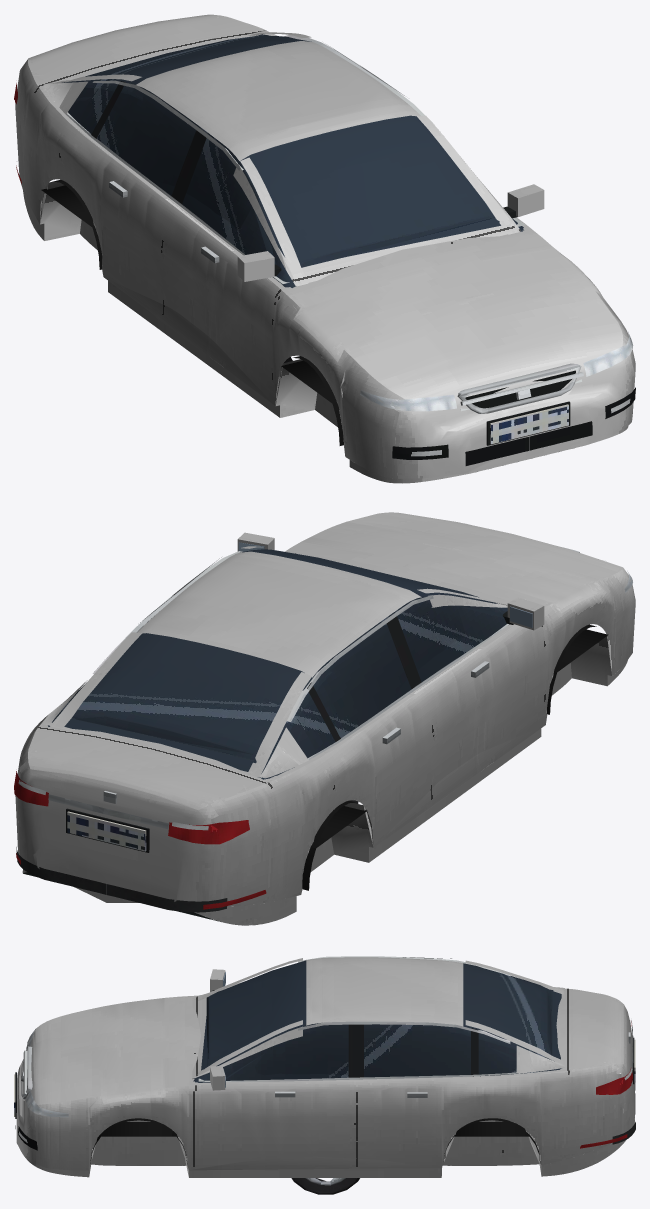
File: accolade14.glb
3 renders of one model, top to bottom at view 1: azimuth 30°, elevation 25°; view 2: azimuth 150°, elevation 25°; view 3: azimuth 270°, elevation 25°, orthographic. The views are drawn at different scales.
Visible parts, largest first — view 1: Paint, Body, Paint_far, Body_far; view 2: Paint, Body, Paint_far, Body_far; view 3: Paint, Body, Paint_far, Body_far, Wheel_far, Wheel.
Boxes of the visible parts, left/top/right/bottom form: Paint: left=15, top=14, right=635, bottom=483; Body: left=14, top=34, right=635, bottom=465; Paint_far: left=36, top=31, right=571, bottom=474; Body_far: left=41, top=35, right=629, bottom=445; Paint: left=15, top=512, right=635, bottom=925; Body: left=14, top=523, right=632, bottom=921; Paint_far: left=33, top=532, right=614, bottom=902; Body_far: left=48, top=552, right=627, bottom=852; Paint: left=16, top=957, right=634, bottom=1177; Body: left=14, top=956, right=635, bottom=1163; Paint_far: left=22, top=969, right=634, bottom=1177; Body_far: left=22, top=957, right=630, bottom=1136; Wheel_far: left=305, top=1178, right=355, bottom=1192; Wheel: left=291, top=1178, right=359, bottom=1194.
Size of the model in its own units: 2 by 1.79 by 4.89.
3 materials, 3 textured.
